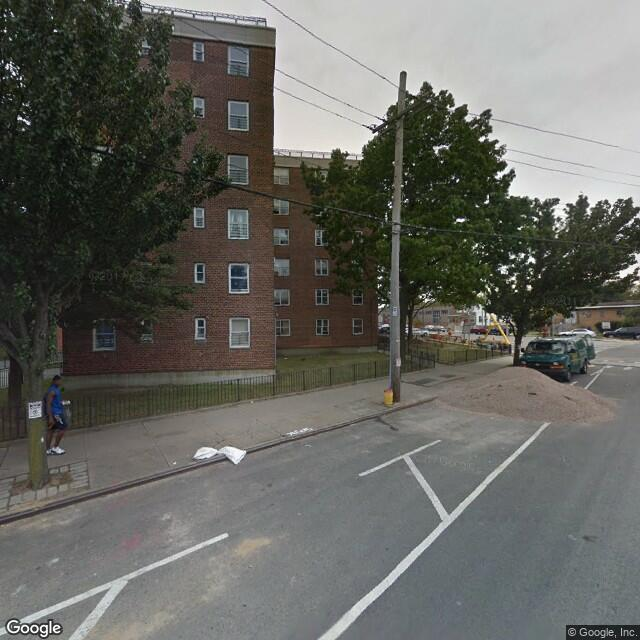litter: (303, 442, 313, 448), (246, 398, 255, 402), (171, 461, 181, 464)
